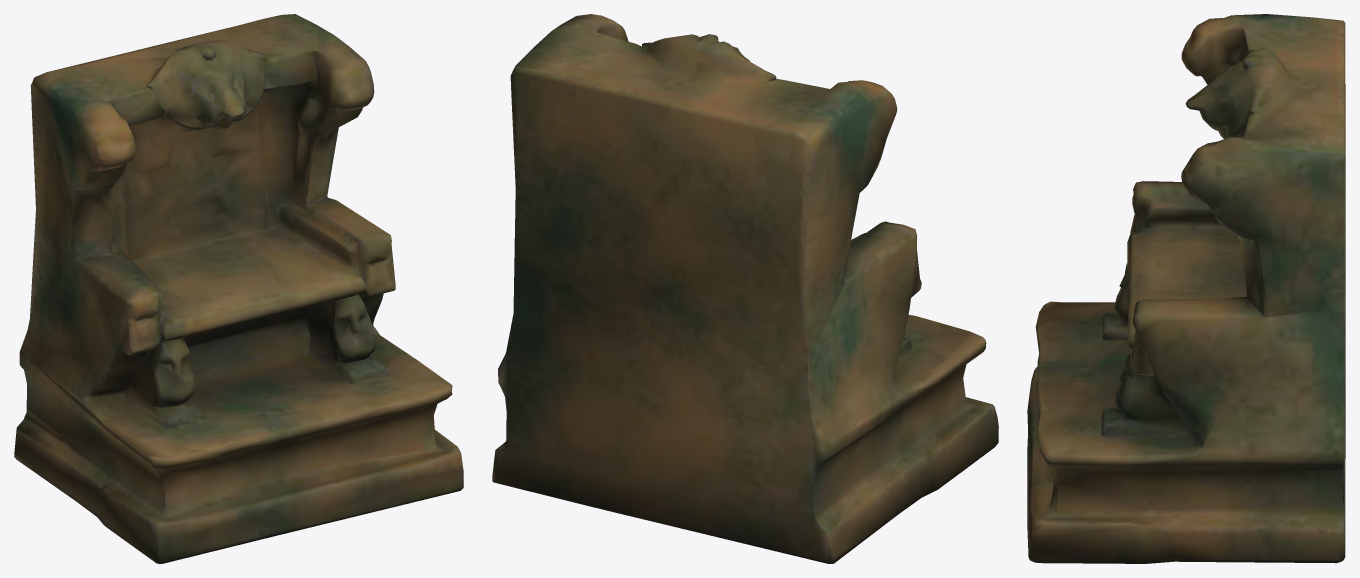
Rendered from ancient-bronze-throne-v001.glb.
3 renders of one model, left to right at view 1: azimuth 30°, elevation 25°; view 2: azimuth 150°, elevation 25°; view 3: azimuth 270°, elevation 25°, orthographic. The views are drawn at different scales.
Visible parts, largest first — view 1: ancient-bronze-throne; view 2: ancient-bronze-throne; view 3: ancient-bronze-throne.
Boxes of the visible parts, bbox=[...] form: ancient-bronze-throne: bbox=[14, 14, 463, 563]; ancient-bronze-throne: bbox=[492, 14, 998, 563]; ancient-bronze-throne: bbox=[1027, 14, 1345, 563].
Bounding box in the file's own units: 1.48 × 1.84 × 1.24.
Materials: 1 (1 with a texture image).
